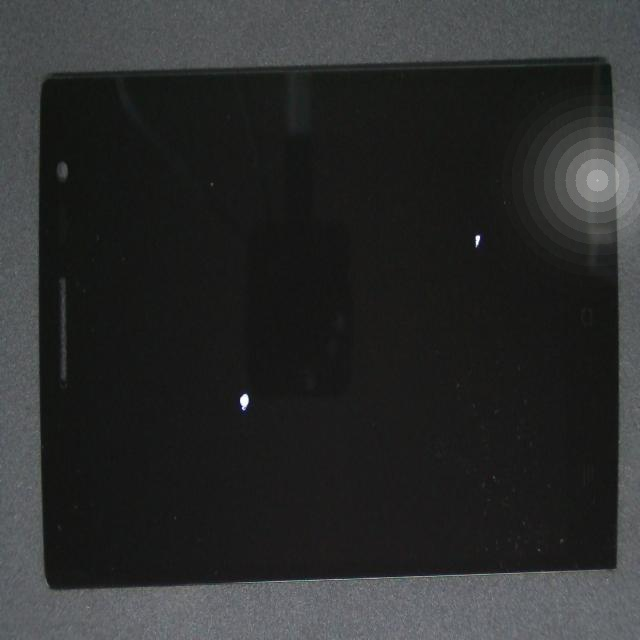stain: (201, 152, 640, 405), (84, 238, 347, 640)
